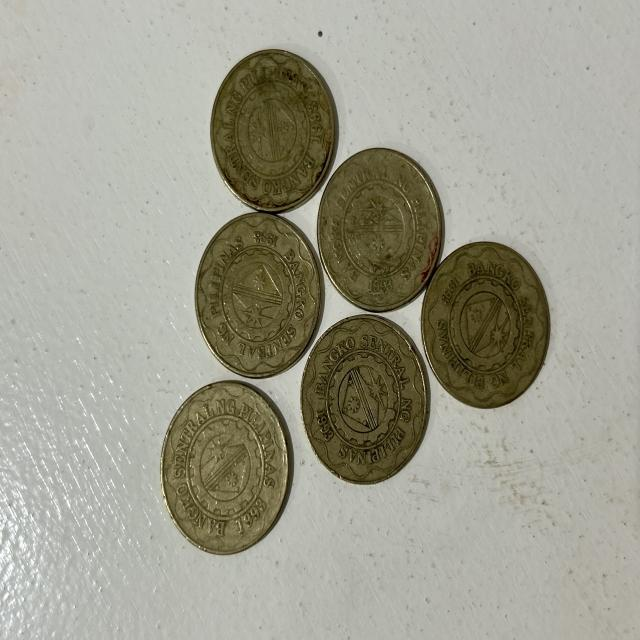5_Old_Back: (295, 305, 430, 490), (426, 236, 550, 418), (160, 383, 300, 542), (210, 46, 336, 212), (191, 211, 326, 365), (315, 148, 439, 311)
